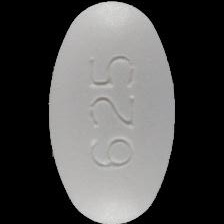53808-0809: (0, 0, 224, 224)
